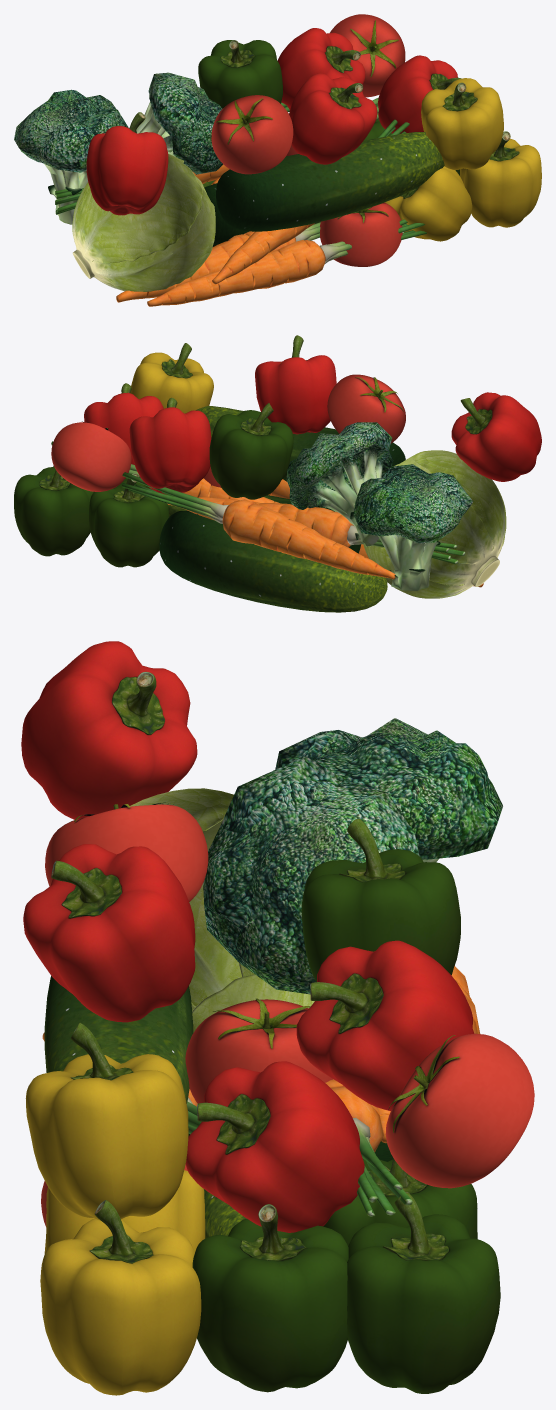
File: all_vegetables_model.fbx
3 renders of one model, top to bottom at view 1: azimuth 30°, elevation 25°; view 2: azimuth 150°, elevation 25°; view 3: azimuth 270°, elevation 25°, orthographic. The views are drawn at different scales.
Parts seen in each view (by area): view 1: red_paprika_001, yellow_paprika_001, cucumber_001, cabbage_001, tomato_001, Broccoli_001, Carrot_001, green_paprika_001; view 2: red_paprika_001, green_paprika_001, Broccoli_001, cucumber_001, Carrot_001, tomato_001, cabbage_001, yellow_paprika_001; view 3: red_paprika_001, green_paprika_001, yellow_paprika_001, Broccoli_001, tomato_001, cucumber_001, cabbage_001, Carrot_001.
Boxes of the visible parts, left/top/right/bottom form: red_paprika_001: left=86, top=28, right=461, bottom=215; yellow_paprika_001: left=385, top=78, right=541, bottom=241; cucumber_001: left=202, top=132, right=444, bottom=246; cabbage_001: left=72, top=153, right=215, bottom=291; tomato_001: left=211, top=14, right=405, bottom=266; Broccoli_001: left=14, top=72, right=223, bottom=224; Carrot_001: left=55, top=97, right=426, bottom=306; green_paprika_001: left=198, top=40, right=459, bottom=175; red_paprika_001: left=84, top=335, right=541, bottom=493; green_paprika_001: left=14, top=403, right=293, bottom=567; Broccoli_001: left=286, top=422, right=473, bottom=590; cucumber_001: left=145, top=406, right=405, bottom=612; Carrot_001: left=51, top=441, right=483, bottom=587; tomato_001: left=51, top=374, right=405, bottom=491; cabbage_001: left=363, top=450, right=506, bottom=598; yellow_paprika_001: left=130, top=343, right=213, bottom=413; red_paprika_001: left=21, top=641, right=474, bottom=1232; green_paprika_001: left=192, top=818, right=500, bottom=1393; yellow_paprika_001: left=25, top=1022, right=205, bottom=1395; Broccoli_001: left=203, top=718, right=502, bottom=994; tomato_001: left=41, top=802, right=534, bottom=1226; cucumber_001: left=44, top=976, right=392, bottom=1238; cabbage_001: left=129, top=788, right=314, bottom=1032; Carrot_001: left=42, top=965, right=480, bottom=1216.
Bounding box in the file's own units: 42.5 × 17.66 × 21.58.
